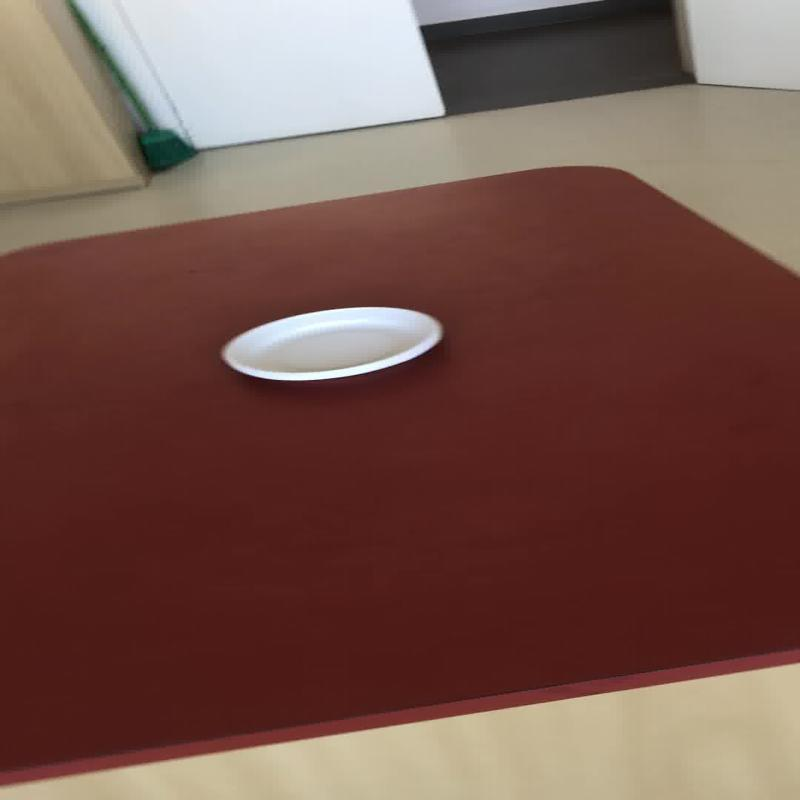plate: (219, 305, 443, 381)
